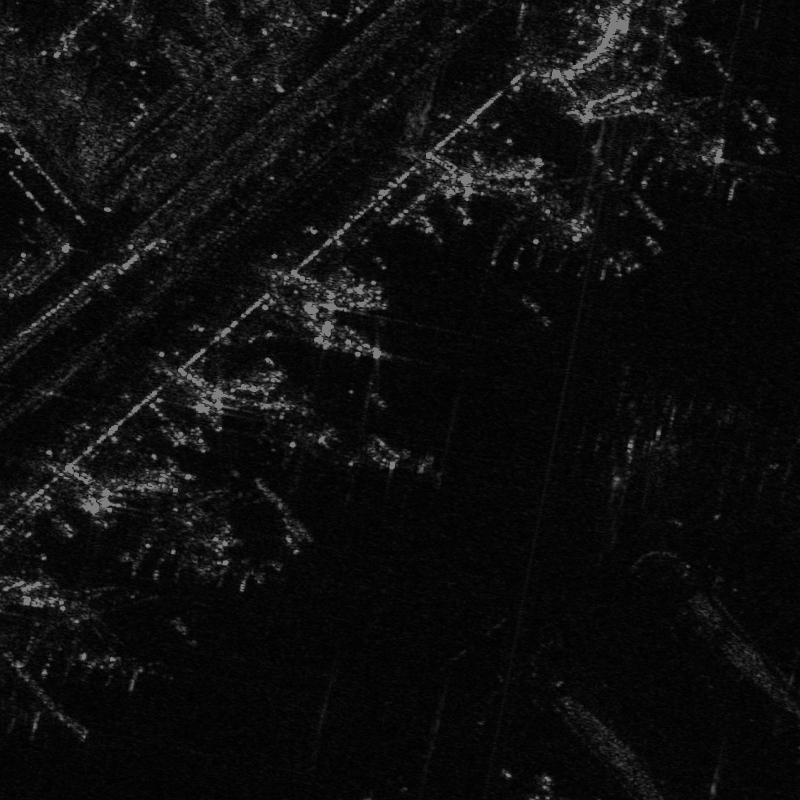Boeing737: (481, 175, 619, 272), (140, 484, 262, 585), (621, 93, 734, 176)
other: (19, 580, 170, 699)
